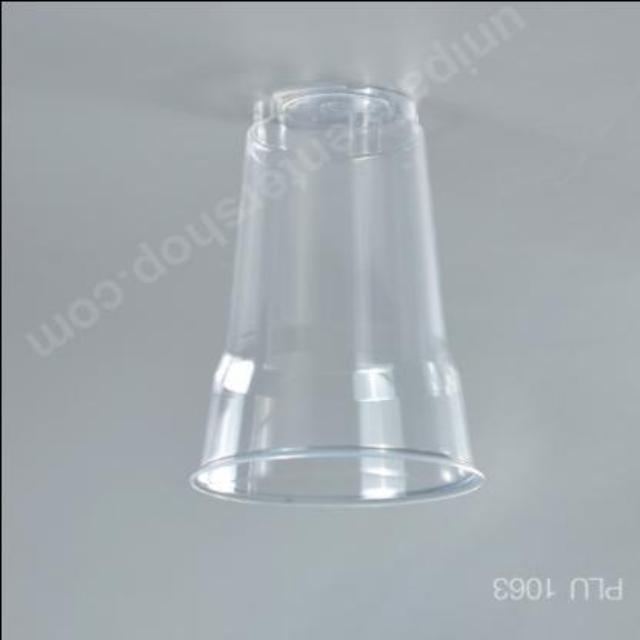plastic_cup: (189, 78, 481, 504)
